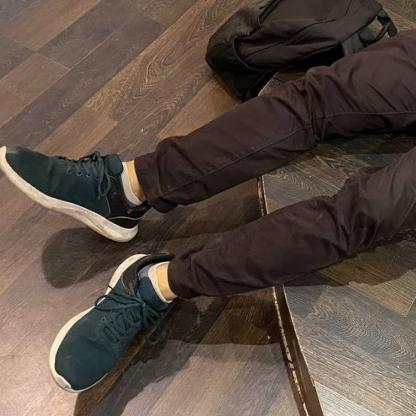leg: (0, 9, 416, 238), (26, 170, 416, 403)
